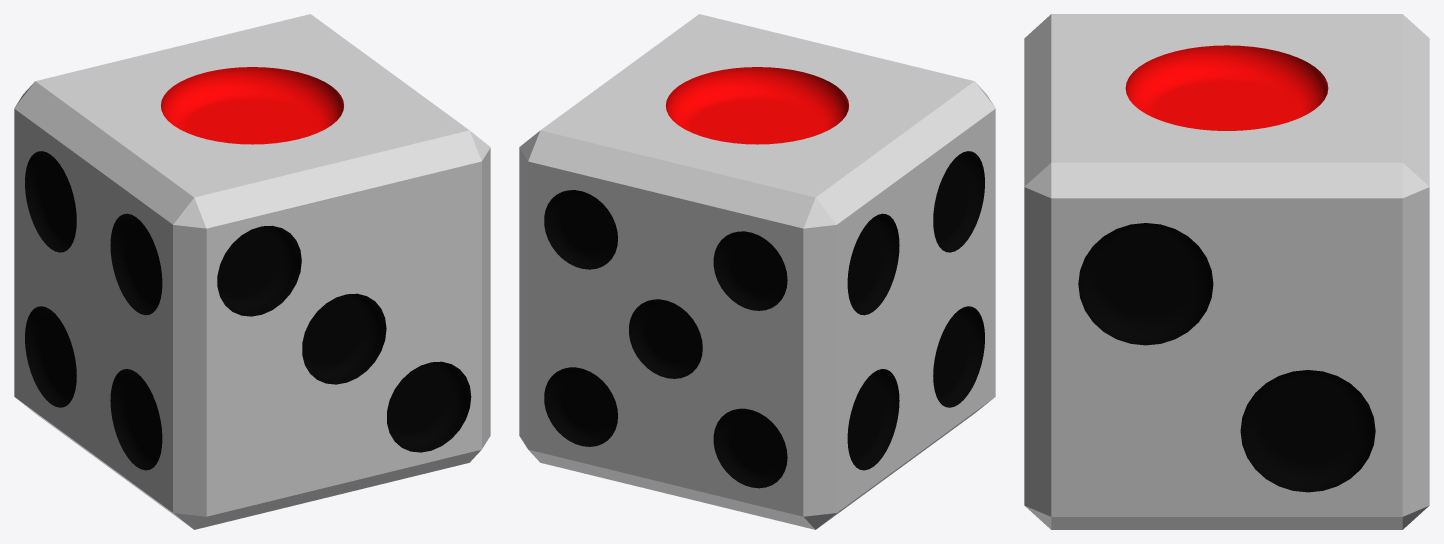
Rendered from sikr.glb.
3 views of the same model, side by side, from view 1: azimuth 30°, elevation 25°; view 2: azimuth 150°, elevation 25°; view 3: azimuth 270°, elevation 25° (orthographic). The views are drawn at different scales.
Visible parts, largest first — view 1: saikoropusu; view 2: saikoropusu; view 3: saikoropusu.
Boxes of the visible parts, <box> form: saikoropusu: <box>14,14,490,529</box>; saikoropusu: <box>519,14,995,529</box>; saikoropusu: <box>1024,14,1429,529</box>.
Size of the model in its own units: 0.03 by 0.03 by 0.03.
